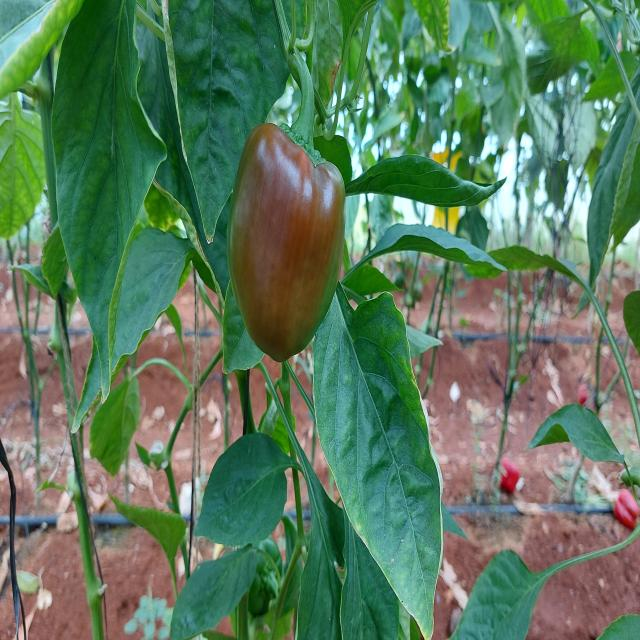BrownishRed--Can-be-Harvested: (238, 91, 346, 361)
